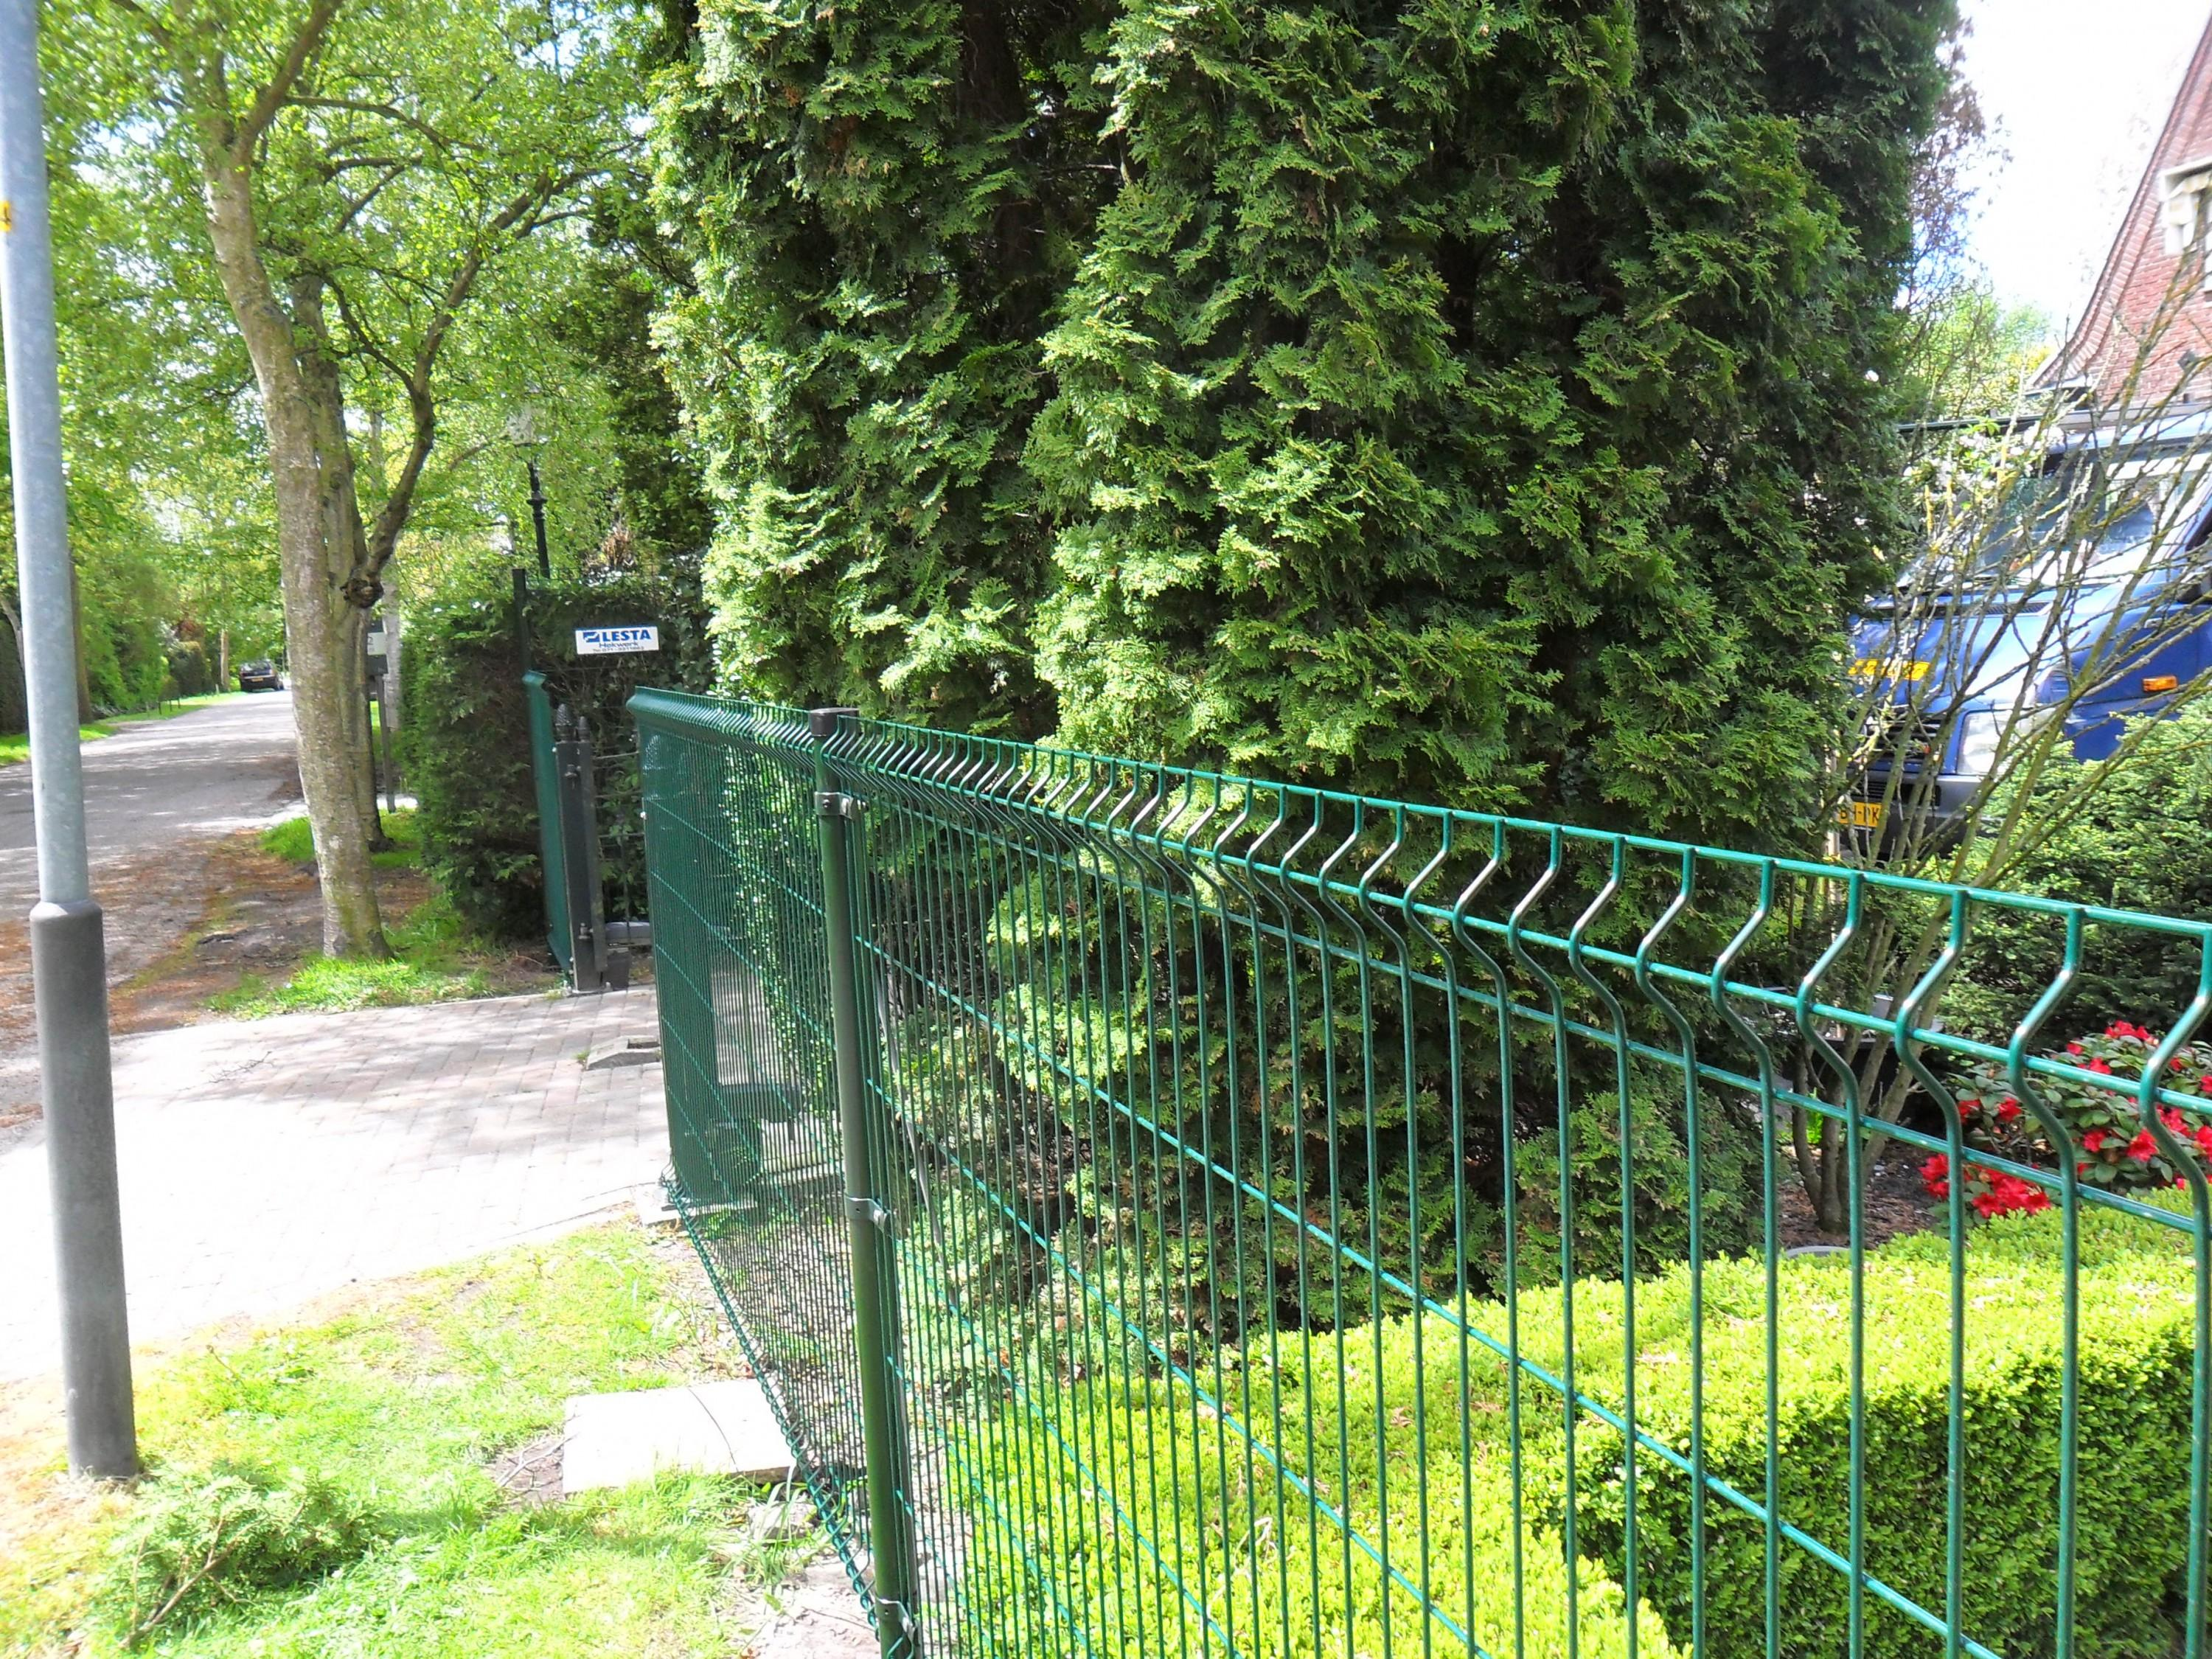obstacle: (329, 519, 2022, 903)
